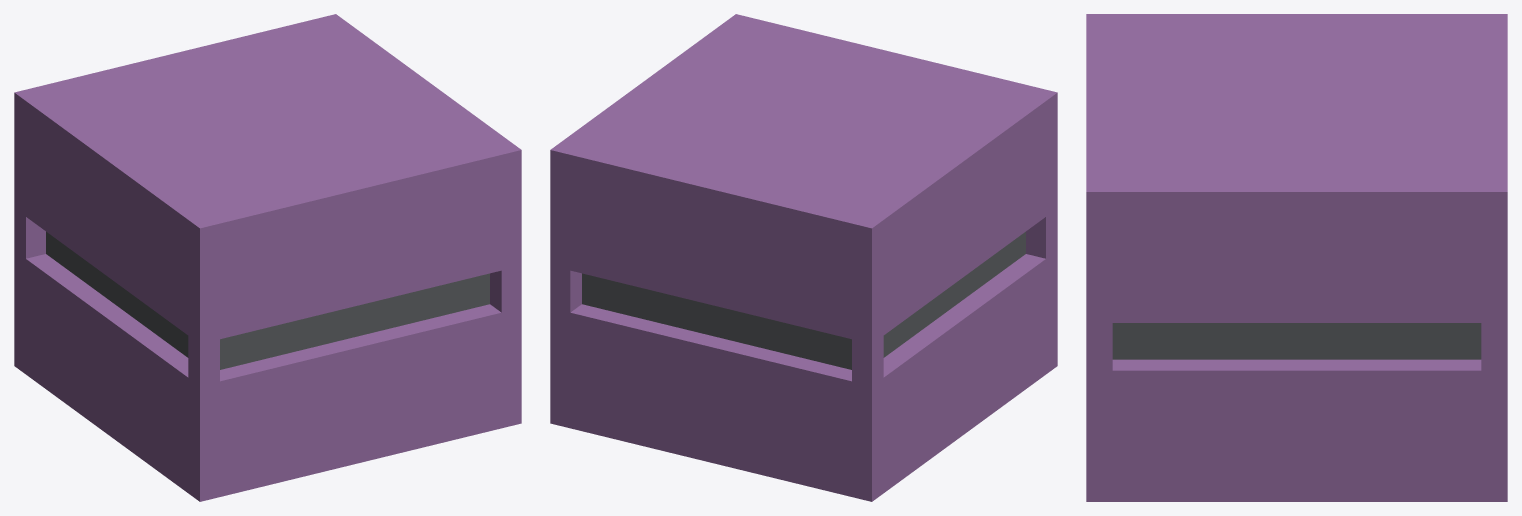
The model's file is saw_tower.glb.
3 views of the same model, side by side, from view 1: azimuth 30°, elevation 25°; view 2: azimuth 150°, elevation 25°; view 3: azimuth 270°, elevation 25° (orthographic). The views are drawn at different scales.
Visible parts, largest first — view 1: Mesh_Mesh_head_geo.001_lambert2SG.001; view 2: Mesh_Mesh_head_geo.001_lambert2SG.001; view 3: Mesh_Mesh_head_geo.001_lambert2SG.001.
Boxes of the visible parts, box(x1,y1,x2,y2) form: Mesh_Mesh_head_geo.001_lambert2SG.001: box(14, 14, 521, 501); Mesh_Mesh_head_geo.001_lambert2SG.001: box(550, 14, 1057, 501); Mesh_Mesh_head_geo.001_lambert2SG.001: box(1086, 14, 1507, 501).
Size of the model in its own units: 80 by 65 by 80.
